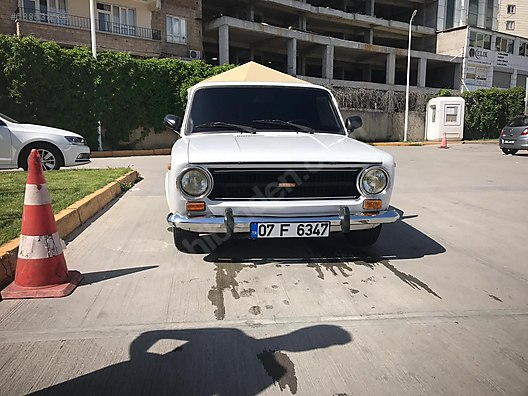murat: (158, 53, 419, 262)
